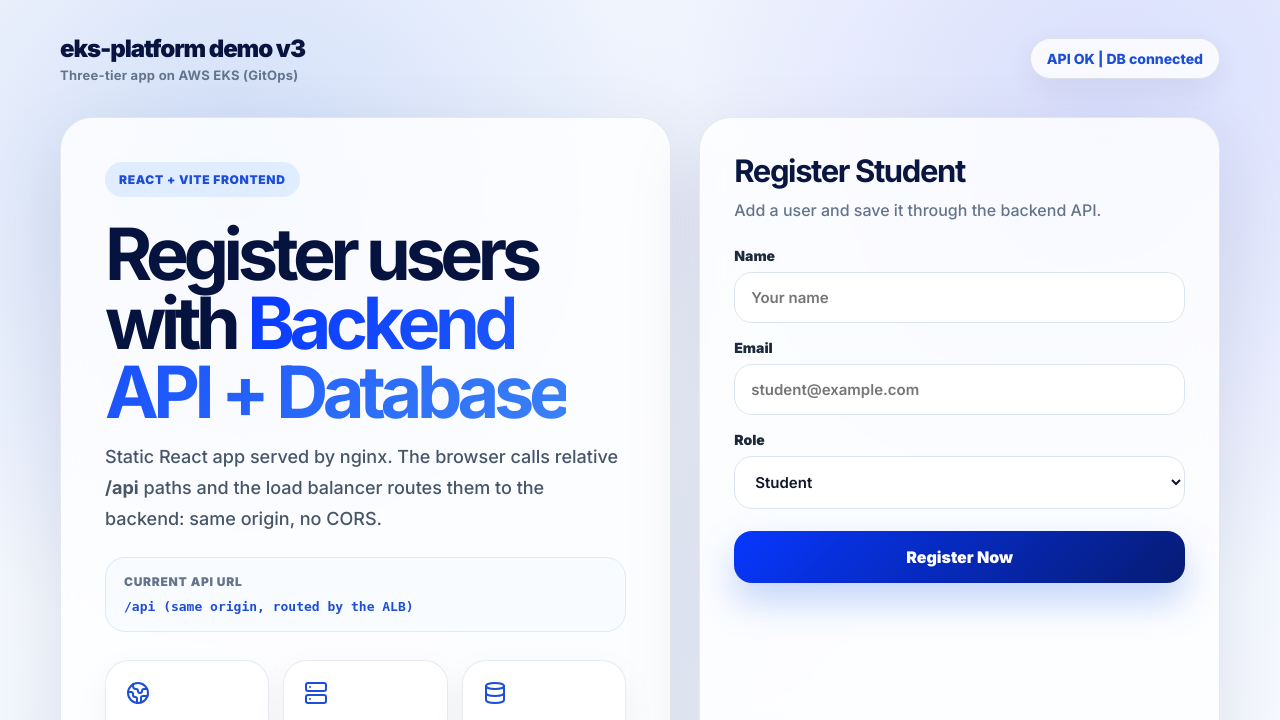
Test: register form › posts the form to /api/register and shows the success message
Expected: the text "API OK | DB connected" is shown, [1030,38,1220,79]
Type "Su Placeholder" into the field with placeholder "Your name" at (960,298), box [734,272,1185,323]
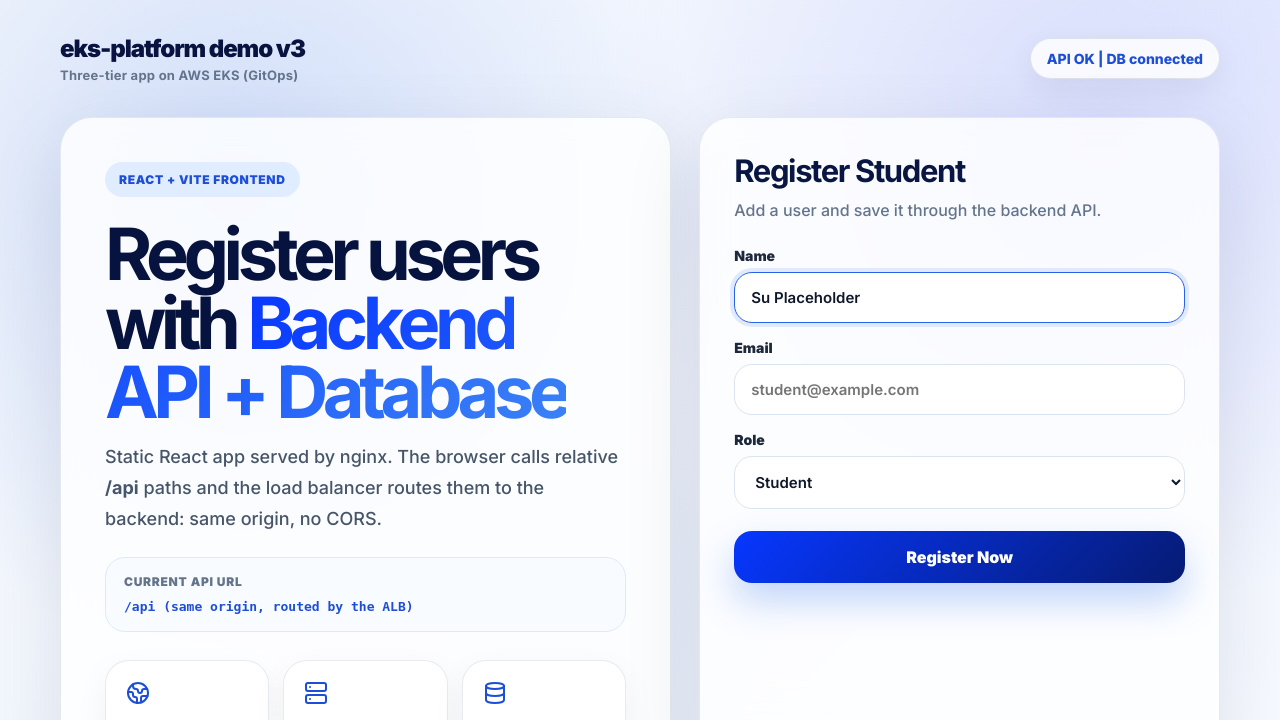
Type "su@example.com" into the field with placeholder "student@example.com" at (960,390), box [734,364,1185,415]
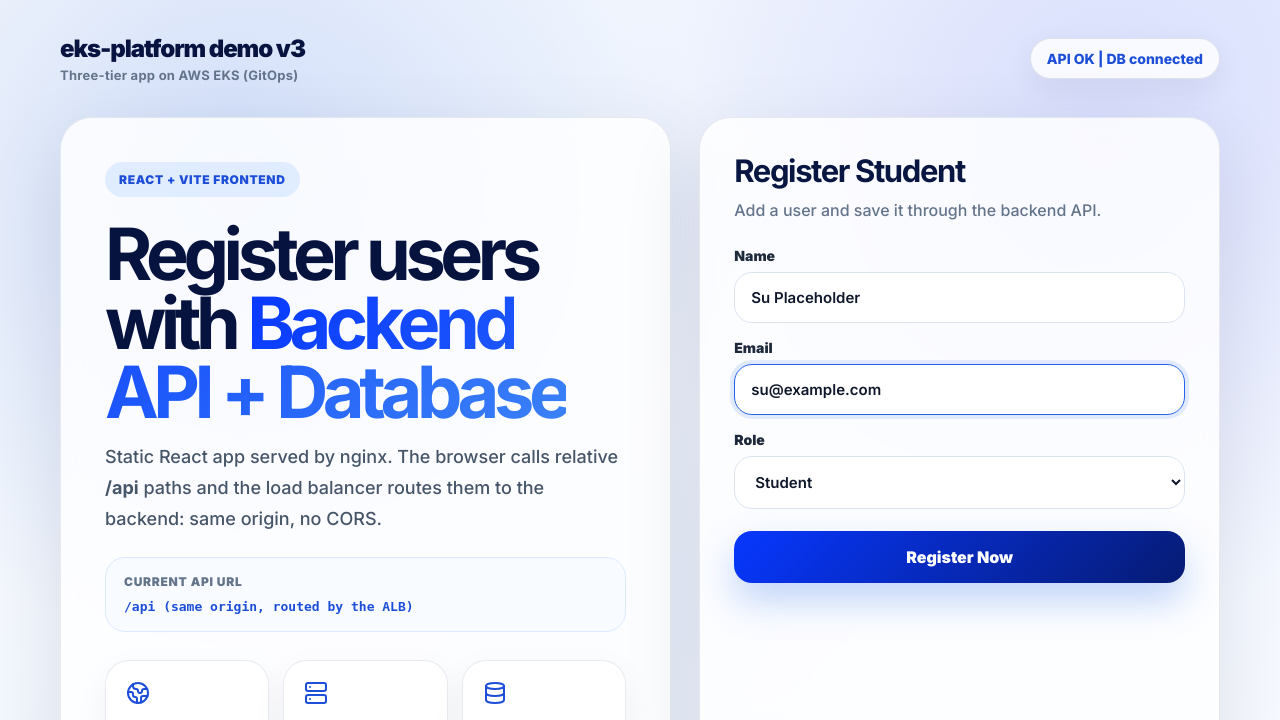
Click the button "Register Now" at (960,557), box [734,531,1185,583]
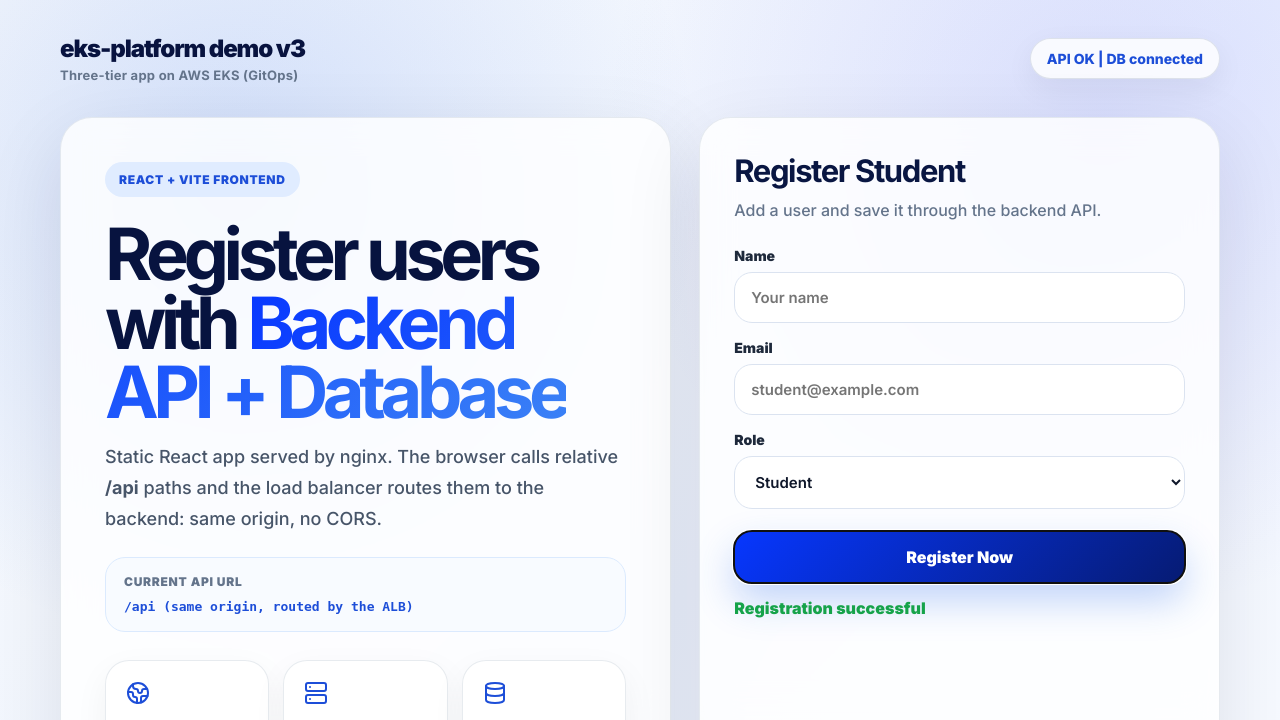
Expected: the text "Registration successful" is shown, [734,598,926,618]
